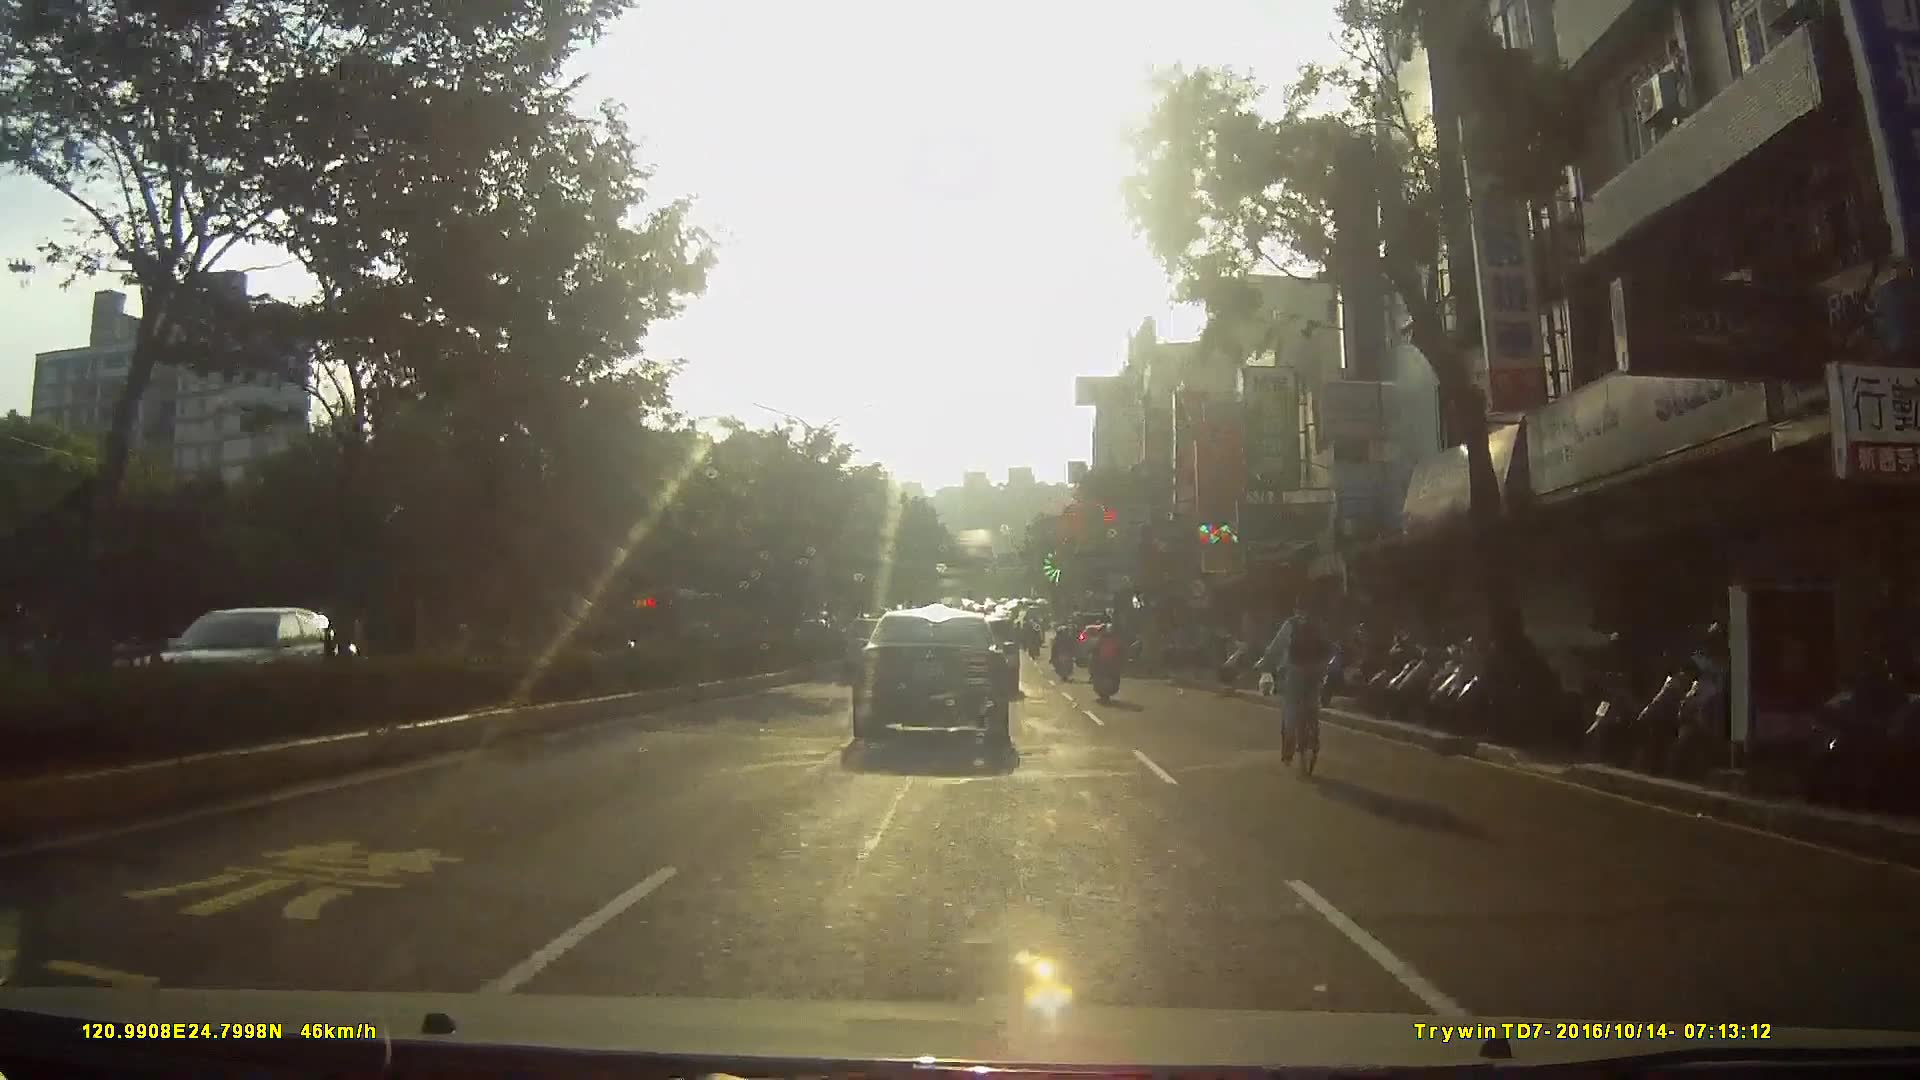rider: (1264, 588, 1342, 767), (1088, 622, 1122, 705), (1049, 621, 1077, 680)
vehicle: (125, 599, 371, 715), (854, 605, 1029, 757)
